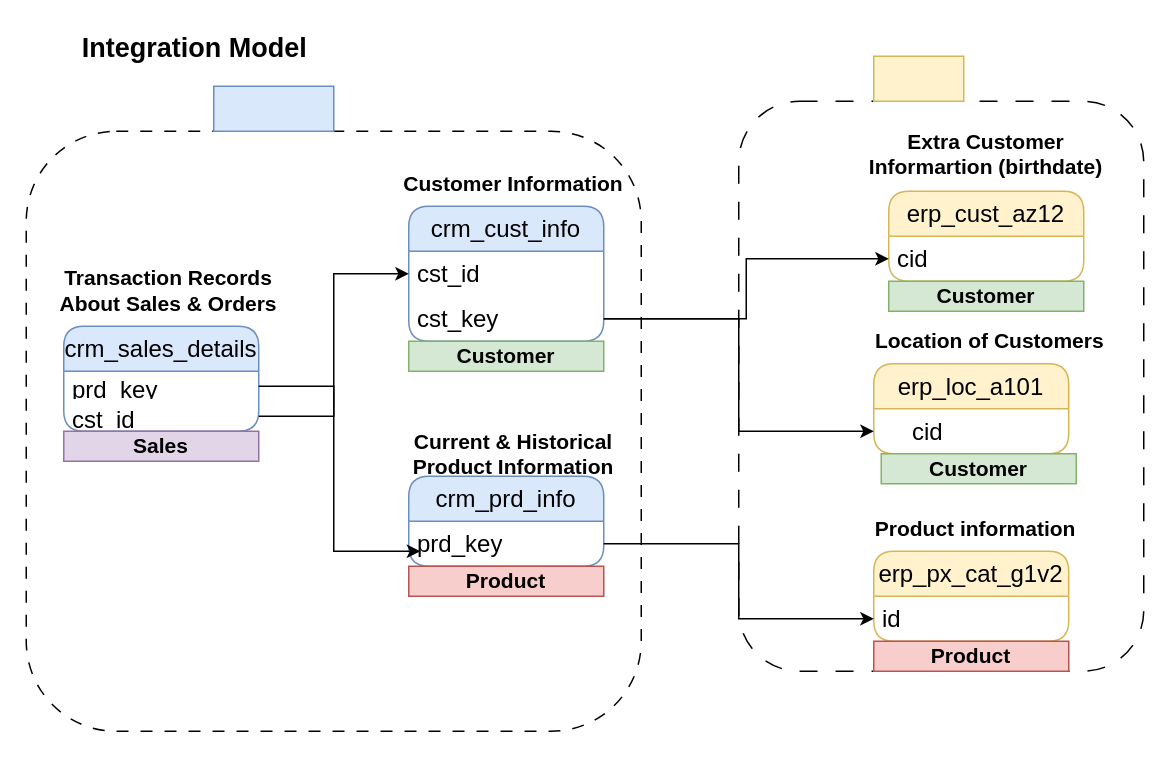
Image size: 1170x758. Some labels were removed from this diagram. Here are the shapes that lost their labels. From the top down, the centre of each, then its label:
At (918,78): "ERP".
At (273,108): "CRM".
